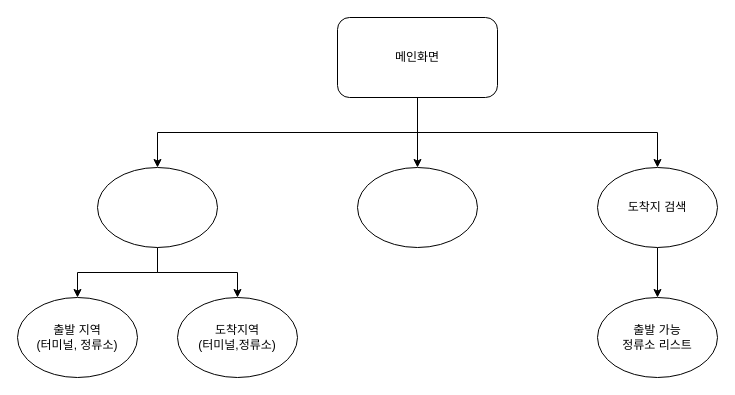
Image size: 735x395. Some labels were removed from this diagram. The centre of each missing label's shape, as x and y in pixels:
"즐겨찾기" goes at [417,207].
"지역 선택" goes at [157,207].
